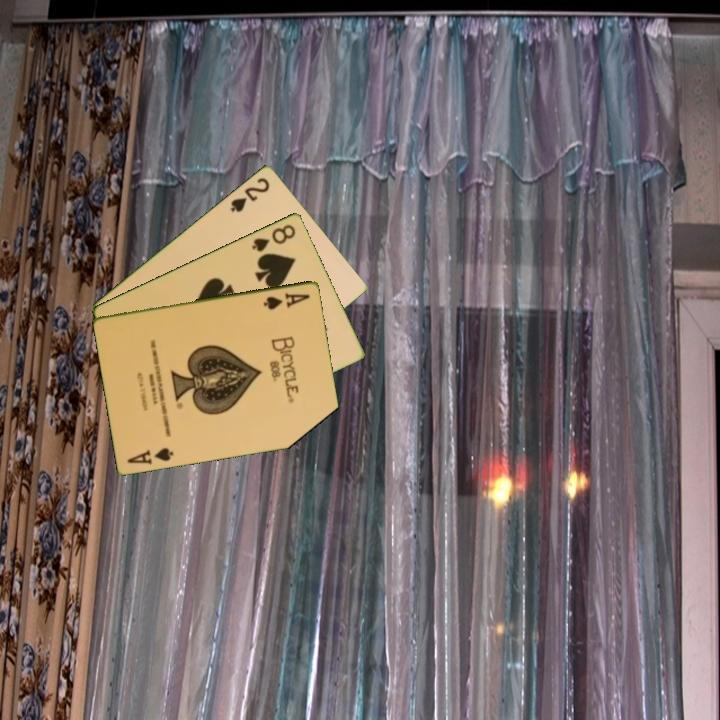2s: (227, 173, 273, 215)
8s: (248, 221, 298, 254)
As: (260, 289, 313, 312), (124, 444, 177, 467)
